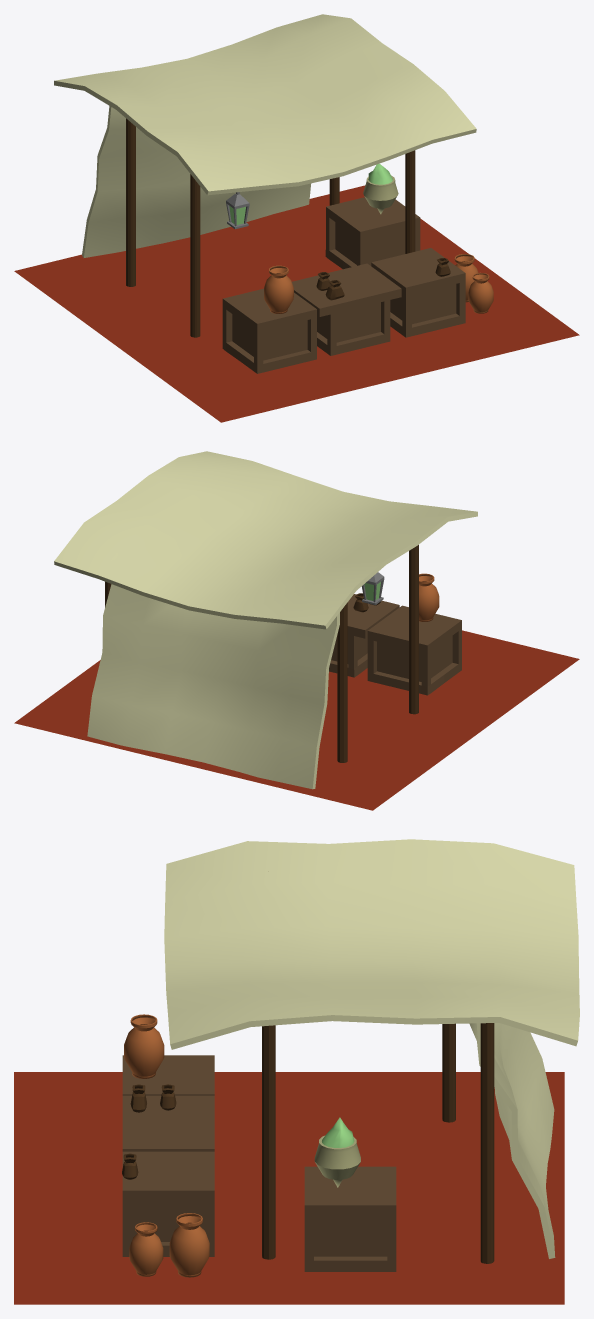
File: caseta mercader.fbx
3 renders of one model, top to bottom at view 1: azimuth 30°, elevation 25°; view 2: azimuth 150°, elevation 25°; view 3: azimuth 270°, elevation 25°, orthographic. The views are drawn at different scales.
Visible parts, largest first — view 1: alfombra, alfombra.001, alfombra.002, caja1, caja1.003, caja1.002, caja1.001, Cylinder.004, Cylinder.003, Circle, Cylinder.001, Circle.002 (+2 smaller); view 2: alfombra.001, alfombra.002, alfombra, caja1, caja1.003, Cylinder.004, Cylinder.003, Circle; view 3: alfombra, alfombra.001, caja1.001, alfombra.002, caja1.002, caja1.003, Cylinder.002, Cylinder.001, caja1, Circle.001, Circle, Circle.002 (+3 smaller).
Part boxes in pixels (x1=…): alfombra: x1=14, y1=185, x2=579, y2=422; alfombra.001: x1=54, y1=14, x2=476, y2=195; alfombra.002: x1=82, y1=106, x2=311, y2=257; caja1: x1=222, y1=288, x2=316, y2=373; caja1.003: x1=292, y1=263, x2=401, y2=355; caja1.002: x1=371, y1=248, x2=465, y2=337; caja1.001: x1=325, y1=197, x2=420, y2=269; Cylinder.004: x1=190, y1=174, x2=200, y2=337; Cylinder.003: x1=126, y1=118, x2=135, y2=286; Circle: x1=264, y1=265, x2=293, y2=313; Cylinder.001: x1=405, y1=150, x2=415, y2=253; Circle.002: x1=468, y1=272, x2=493, y2=313; alfombra.001: x1=54, y1=451, x2=477, y2=629; alfombra.002: x1=87, y1=584, x2=339, y2=789; alfombra: x1=14, y1=630, x2=579, y2=810; caja1: x1=367, y1=605, x2=461, y2=695; caja1.003: x1=329, y1=594, x2=399, y2=677; Cylinder.004: x1=409, y1=545, x2=418, y2=714; Cylinder.003: x1=337, y1=602, x2=347, y2=762; Circle: x1=419, y1=573, x2=439, y2=621; alfombra: x1=14, y1=1072, x2=564, y2=1304; alfombra.001: x1=164, y1=839, x2=579, y2=1049; caja1.001: x1=304, y1=1166, x2=396, y2=1271; alfombra.002: x1=469, y1=1023, x2=555, y2=1258; caja1.002: x1=122, y1=1151, x2=214, y2=1256; caja1.003: x1=122, y1=1095, x2=214, y2=1151; Cylinder.002: x1=480, y1=1023, x2=494, y2=1263; Cylinder.001: x1=262, y1=1025, x2=275, y2=1259; caja1: x1=122, y1=1055, x2=214, y2=1095; Circle.001: x1=169, y1=1213, x2=209, y2=1277; Circle: x1=124, y1=1014, x2=164, y2=1078; Circle.002: x1=129, y1=1222, x2=163, y2=1276.
Size of the model in its own units: 433 by 231 by 445.
Materials: 1 (1 with a texture image).
